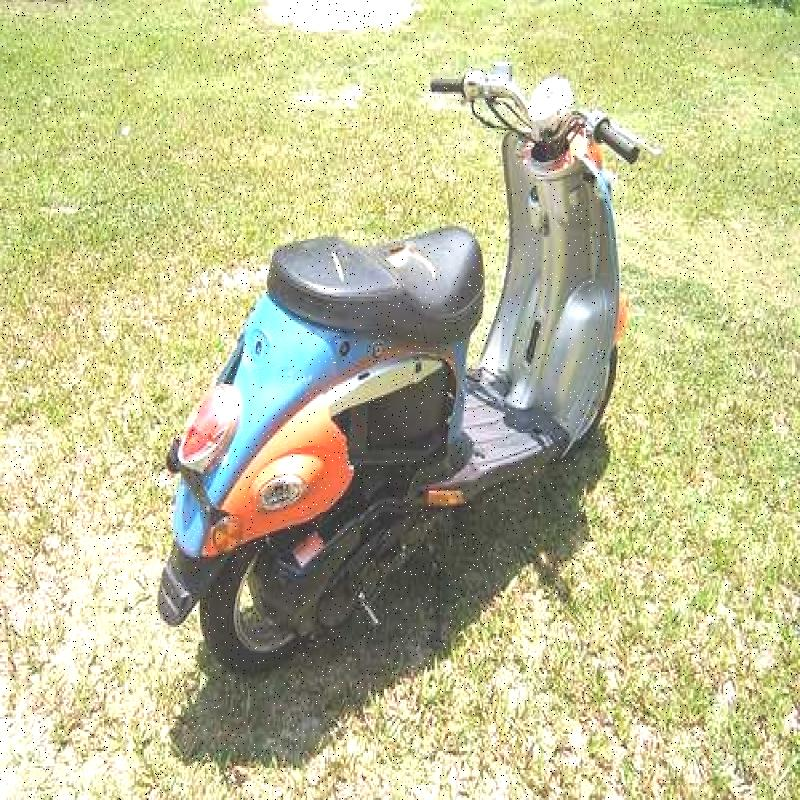bike: (155, 55, 644, 688)
